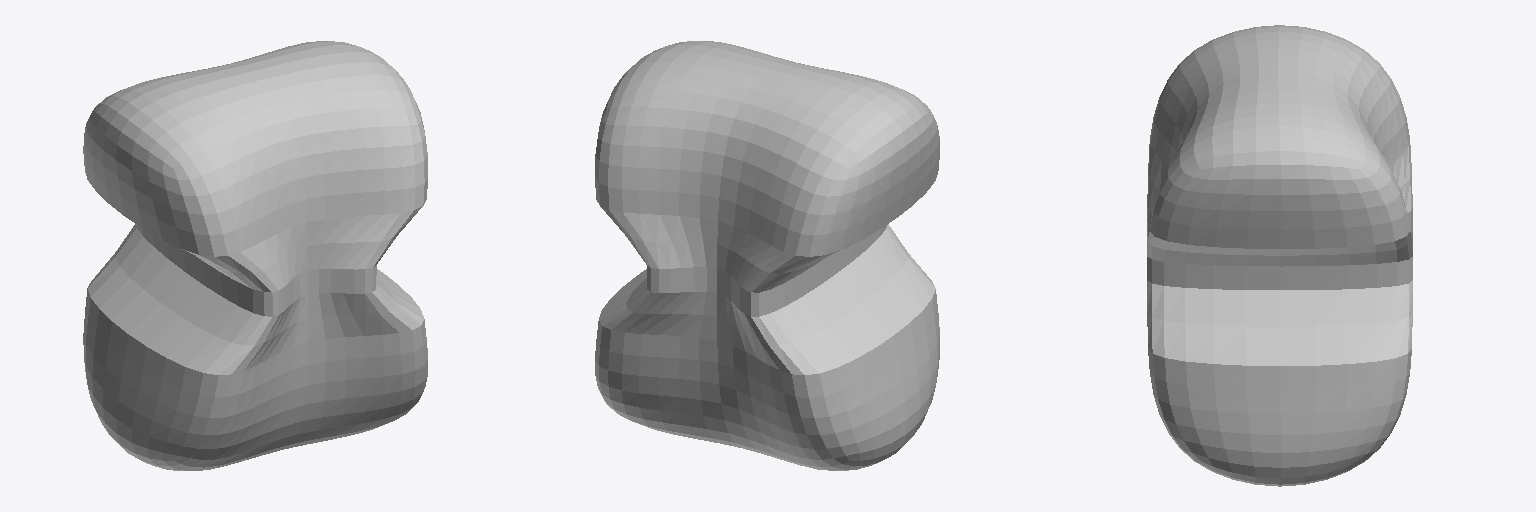
The model's file is special.obj.
3 views of the same model, side by side, from view 1: azimuth 30°, elevation 25°; view 2: azimuth 150°, elevation 25°; view 3: azimuth 270°, elevation 25° (orthographic).
Visible parts, largest first — view 1: pCube1; view 2: pCube1; view 3: pCube1.
Boxes of the visible parts, <box> form: pCube1: <box>83,41,427,470</box>; pCube1: <box>595,41,939,470</box>; pCube1: <box>1147,25,1412,486</box>.
Size of the model in its own units: 0.7513 by 0.9609 by 0.6199.